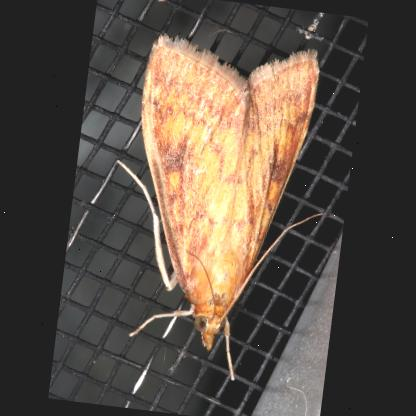Asian Corn Borer Moth: (89, 24, 346, 390)
